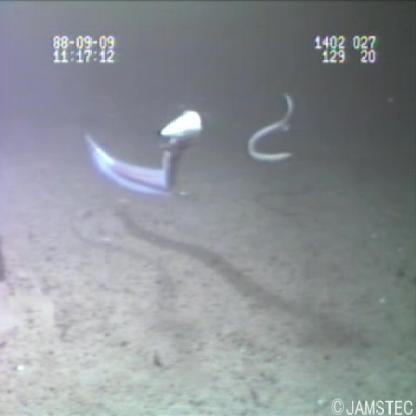Bio: (78, 106, 215, 211), (244, 82, 304, 173)
